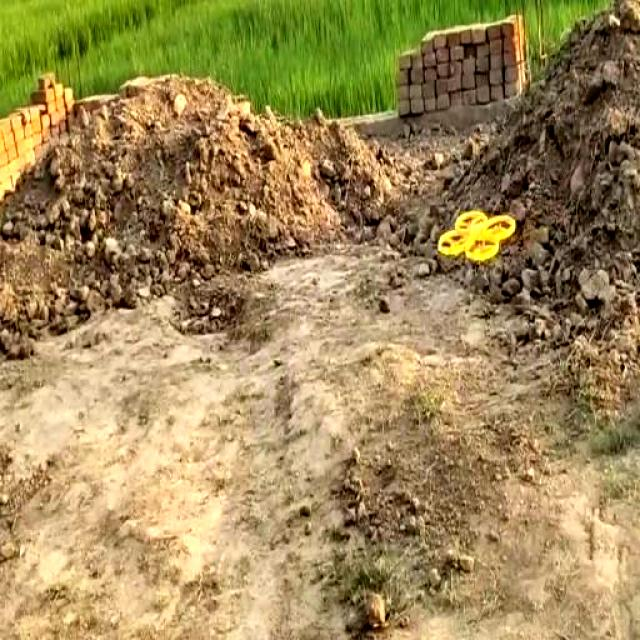bird: (424, 188, 522, 284)
